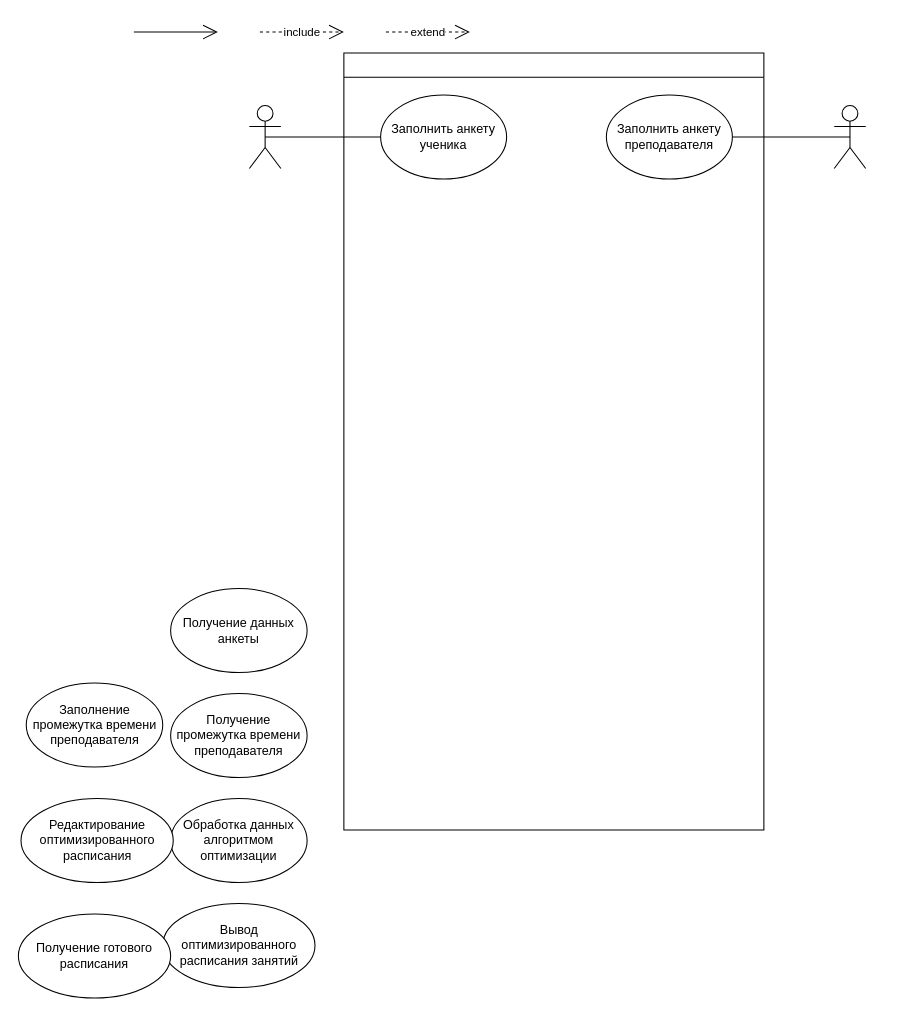
Some shapes in this 913 by 1016 pixel diagram are drawn without their labels. The shapes that lost their labels are listed below. From the top down, each one's box as (x1, y1, x2, y2) in pixels, then its label:
(248, 104, 281, 169): Ученик
(833, 104, 866, 169): Преподаватель
(343, 52, 764, 830): Система Optimal
